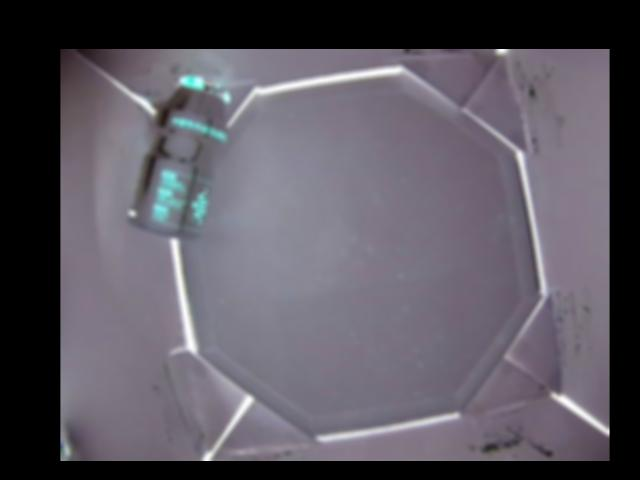Bottle: (126, 70, 233, 243)
